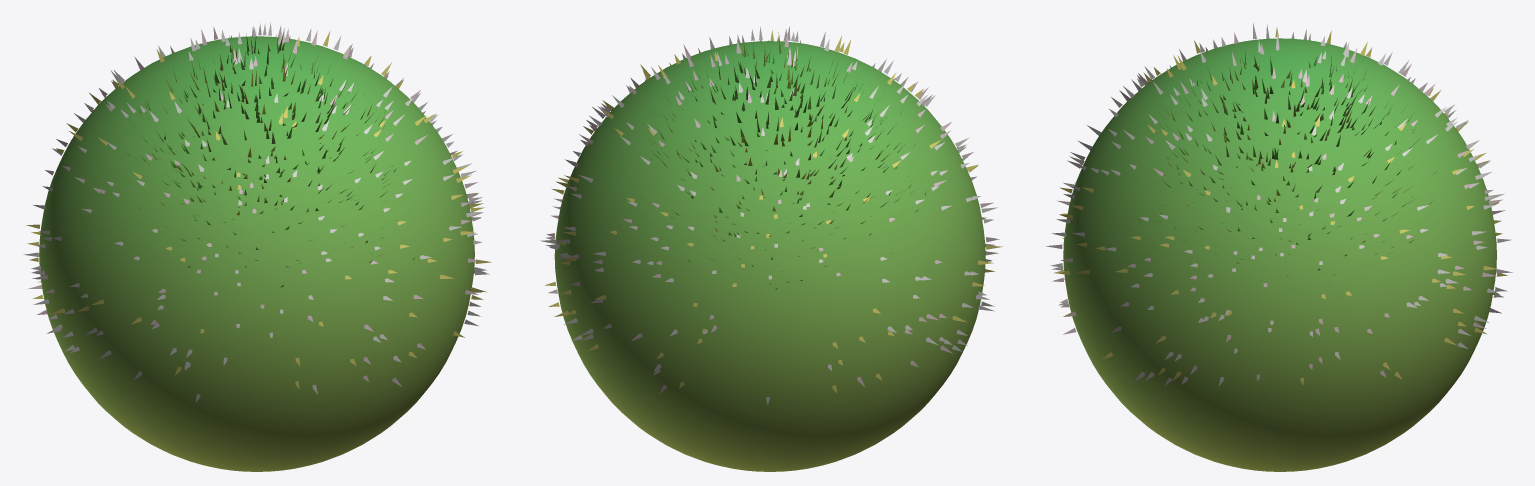
The model's file is grassy_globe.glb.
3 views of the same model, side by side, from view 1: azimuth 30°, elevation 25°; view 2: azimuth 150°, elevation 25°; view 3: azimuth 270°, elevation 25° (orthographic).
Parts seen in each view (by area): view 1: Node_0, Node_2, Node_1; view 2: Node_0, Node_2, Node_1; view 3: Node_0, Node_2, Node_1.
Boxes of the visible parts, box(x1,y1,x2,y2) form: Node_0: box(39, 36, 474, 471); Node_2: box(23, 22, 491, 402); Node_1: box(88, 33, 414, 297); Node_0: box(554, 41, 985, 471); Node_2: box(540, 26, 1002, 404); Node_1: box(616, 32, 926, 299); Node_0: box(1063, 38, 1496, 471); Node_2: box(1046, 23, 1512, 385); Node_1: box(1122, 51, 1436, 326).
Bounding box in the file's own units: 2.22 × 2.11 × 2.22.
